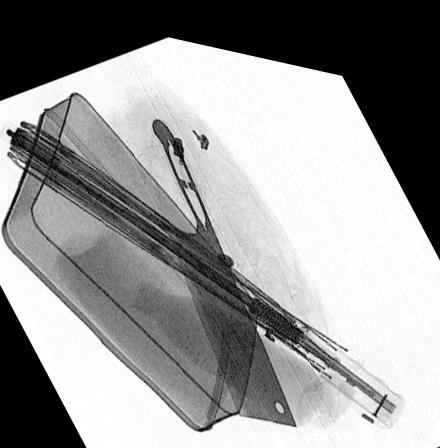Knife: (150, 109, 298, 414)
